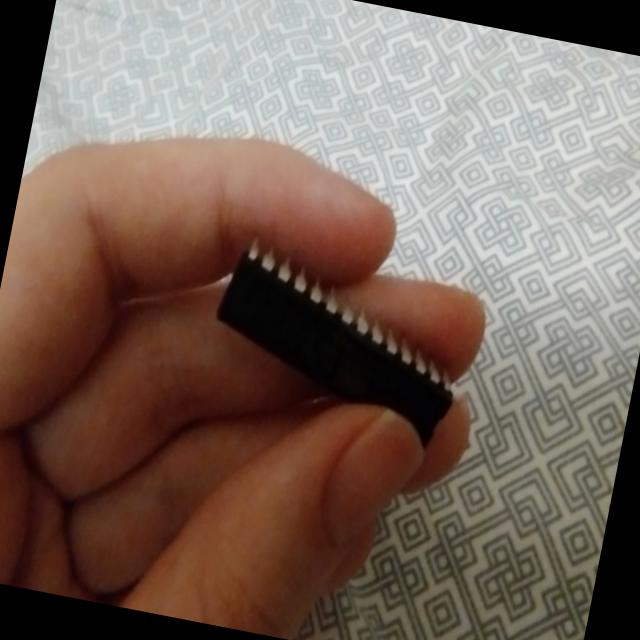atmega: (195, 232, 480, 457)
